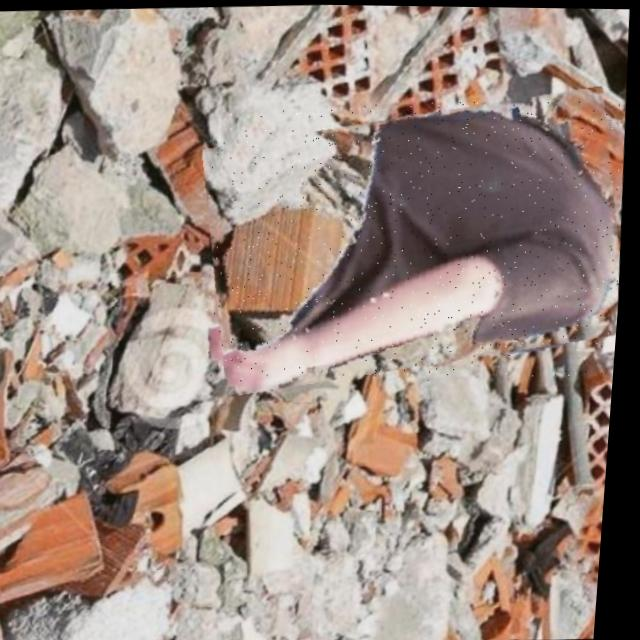Person in Rubble: (196, 92, 635, 388)
